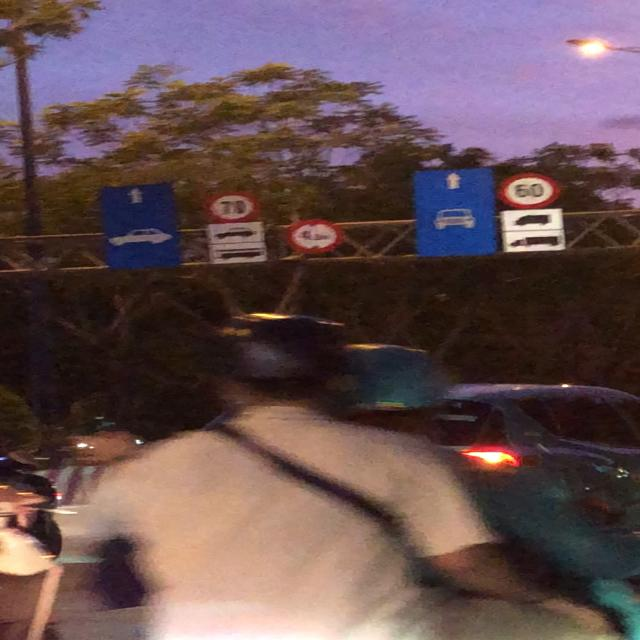Bien bao han che chieu cao: (281, 216, 354, 262)
Bien bao toc do toi da cho phep: (496, 170, 566, 211), (197, 188, 265, 228)
